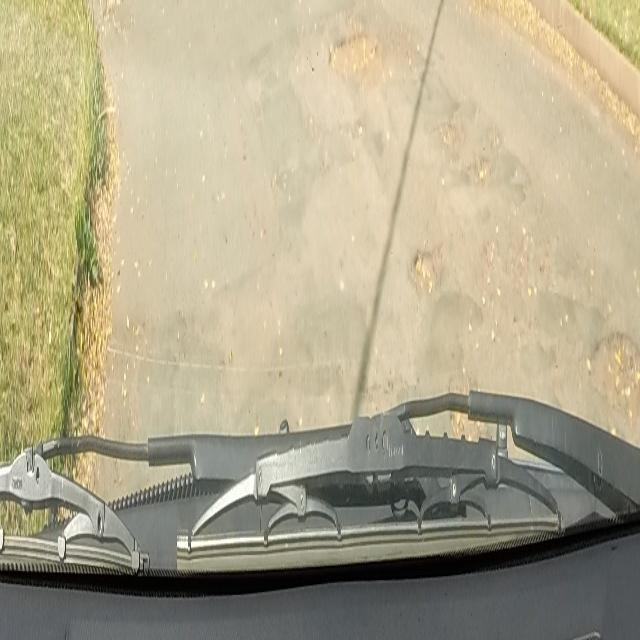pothole: (583, 322, 640, 427), (327, 28, 377, 76), (414, 242, 444, 292)
